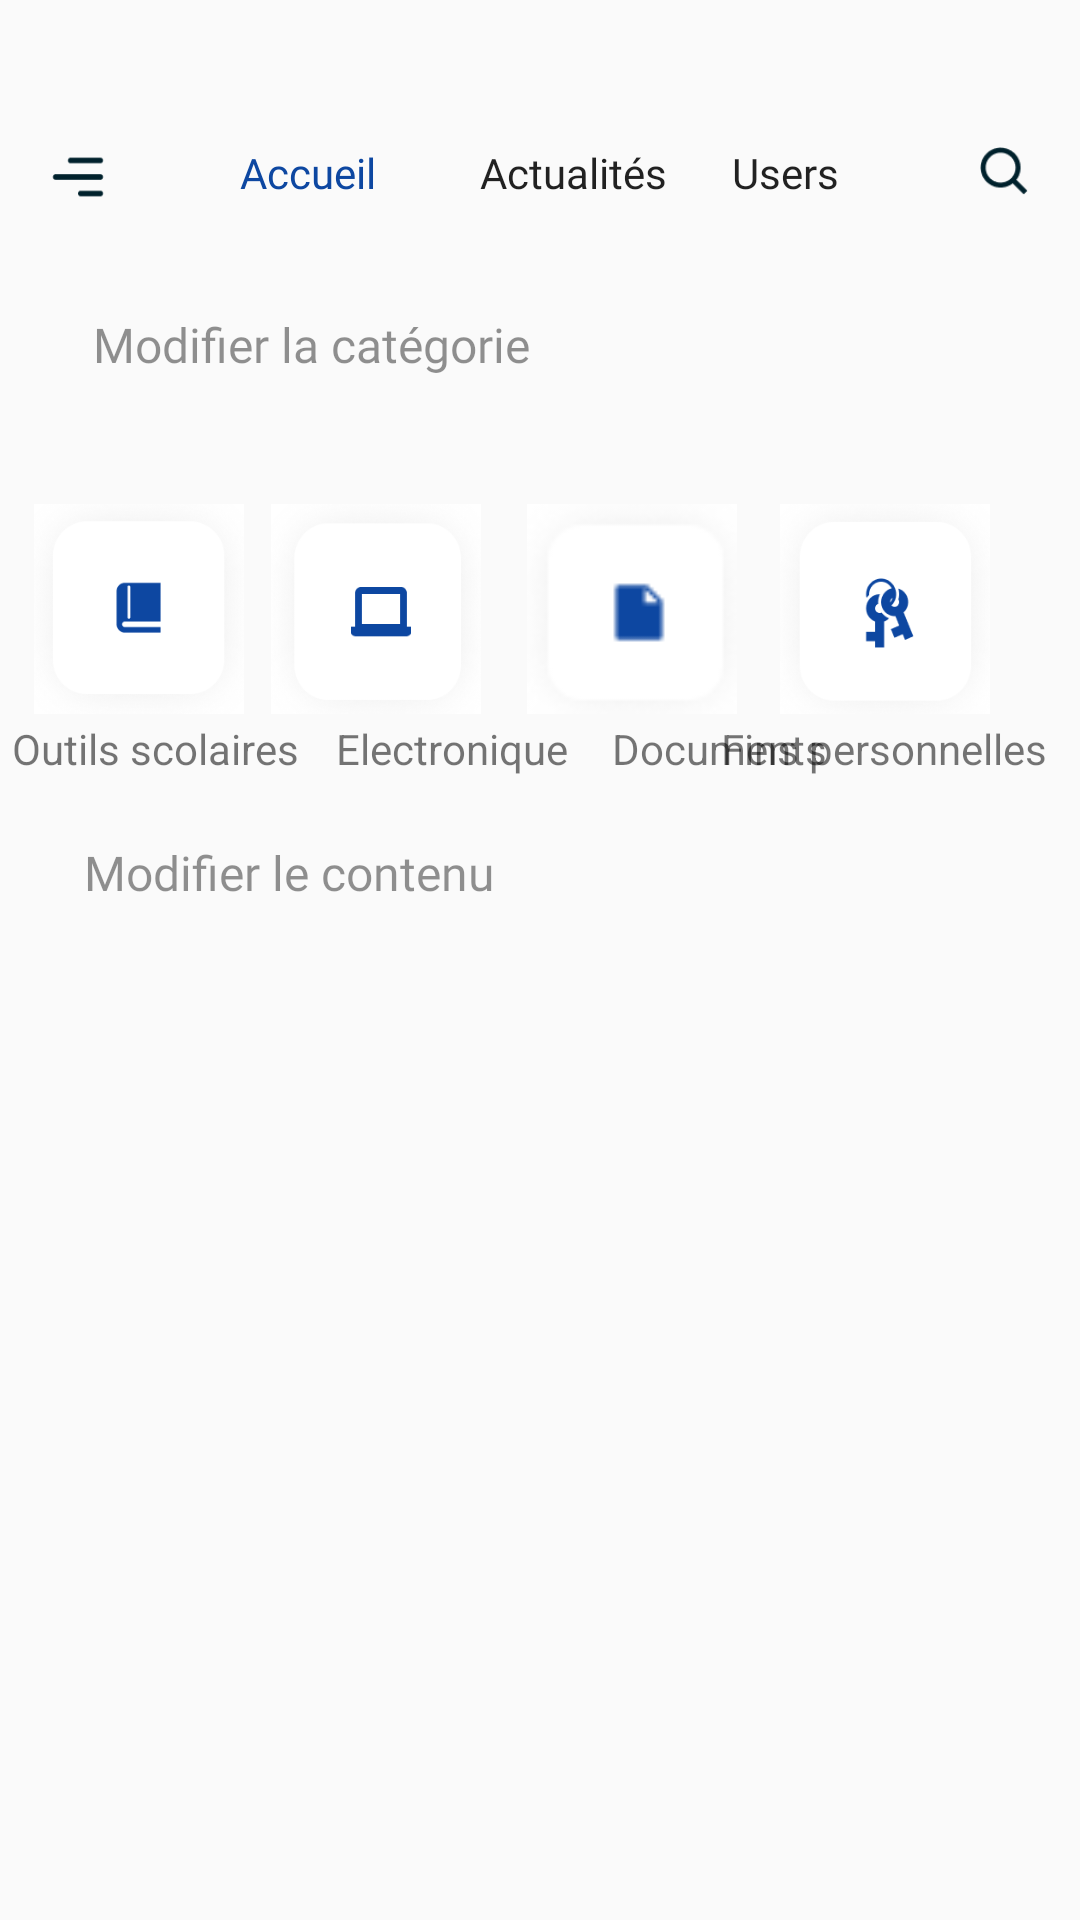

Where icons sit on this 1080w x 1920h app screen, as (x1, y1, x2, y2):
doc adm: (613, 583, 665, 642)
elect adm: (351, 587, 411, 637)
